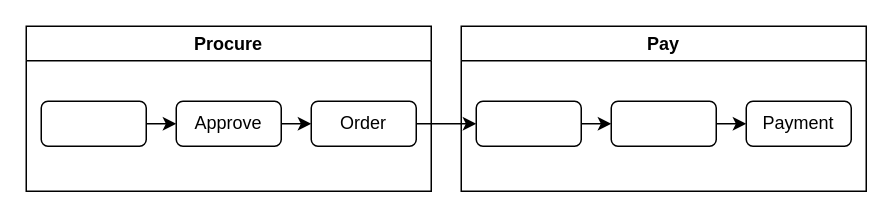
The diagram is 893 pixels wide and 218 high, and some of its shapes have lost their labels. Here are the shapes that lost their labels. From the top down, the centre of each, then its label:
At (x=93, y=123): "Request".
At (x=528, y=123): "Goods Receipt".
At (x=663, y=123): "Invoice".
